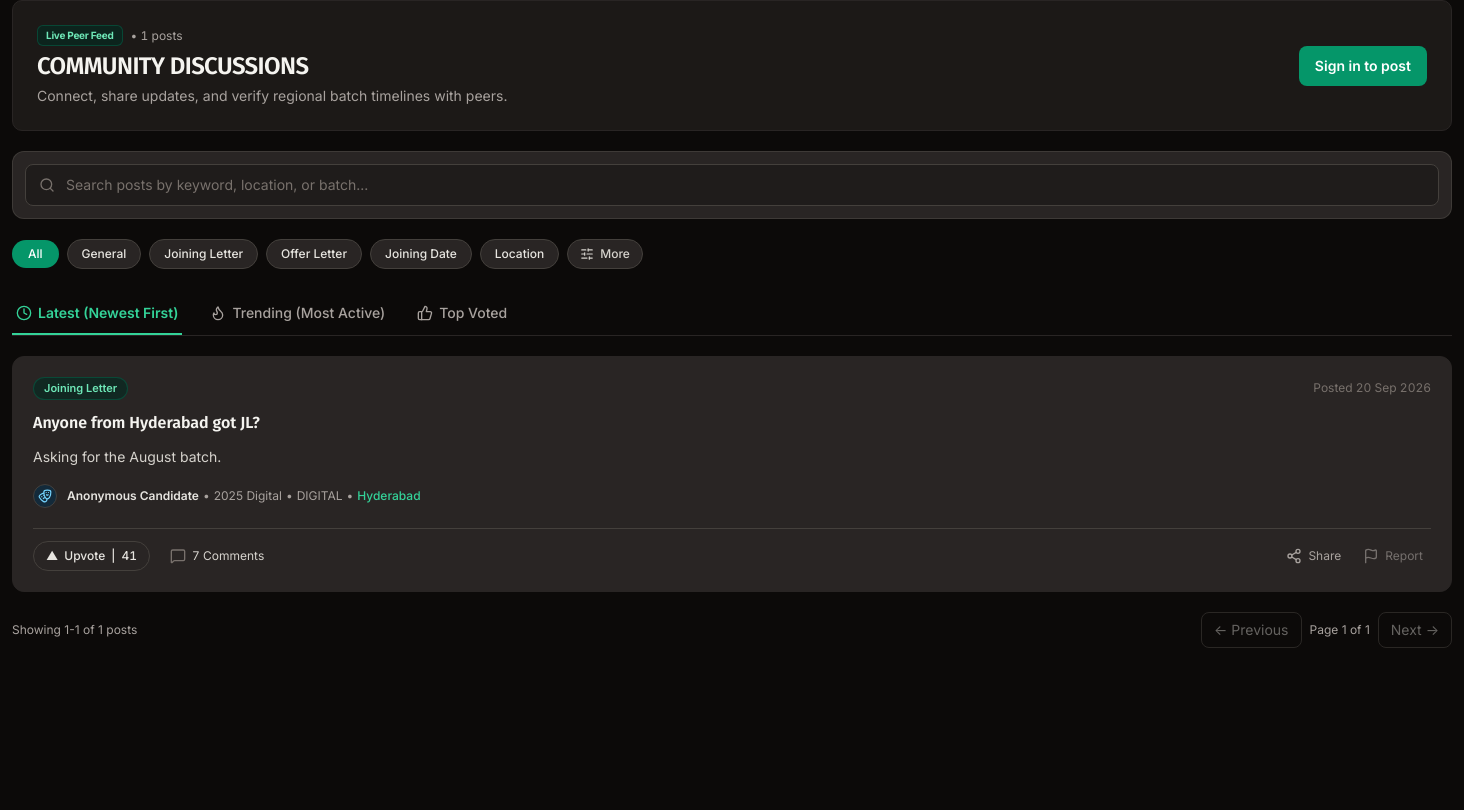
Test: CommunityFeedPage › shows the optimistic count, then the reconciled committed count
Expected: the text "41" is shown, [122,548,137,564]
Click the button "▲ Upvote | 41": [92, 556] box [33,541,150,571]
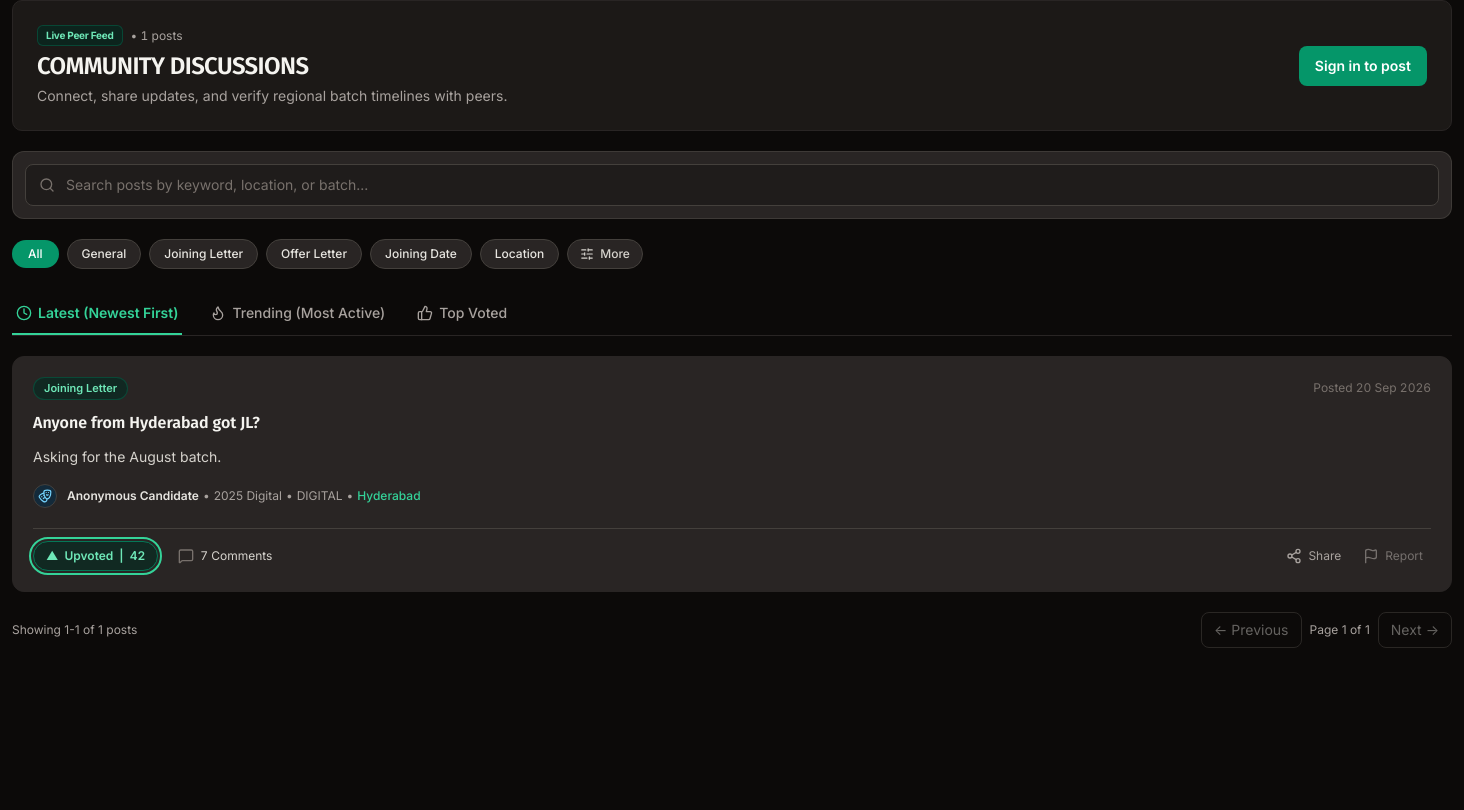
Expected: the text "42" is shown, [130,548,145,564]
Expected: the button "41" is gone
